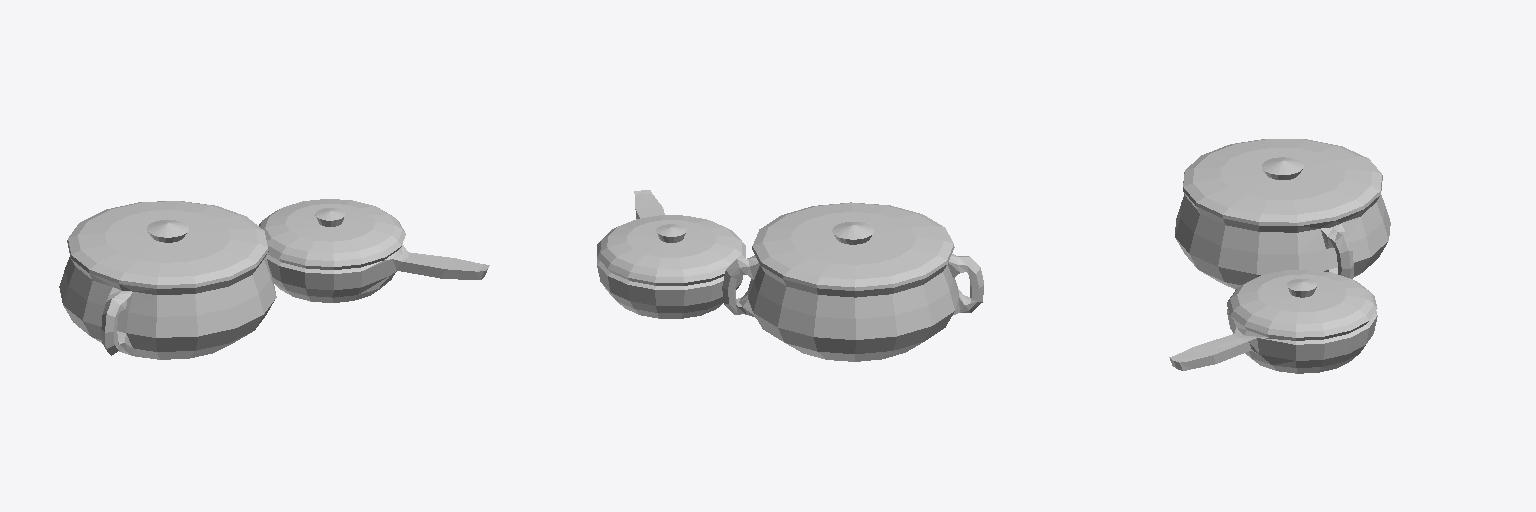
File: kitchen_shelf_content_8.obj
The picture shows the model from 3 angles: view 1: azimuth 30°, elevation 25°; view 2: azimuth 150°, elevation 25°; view 3: azimuth 270°, elevation 25°; orthographic projection.
Size of the model in its own units: 8.06 by 2.23 by 4.21.